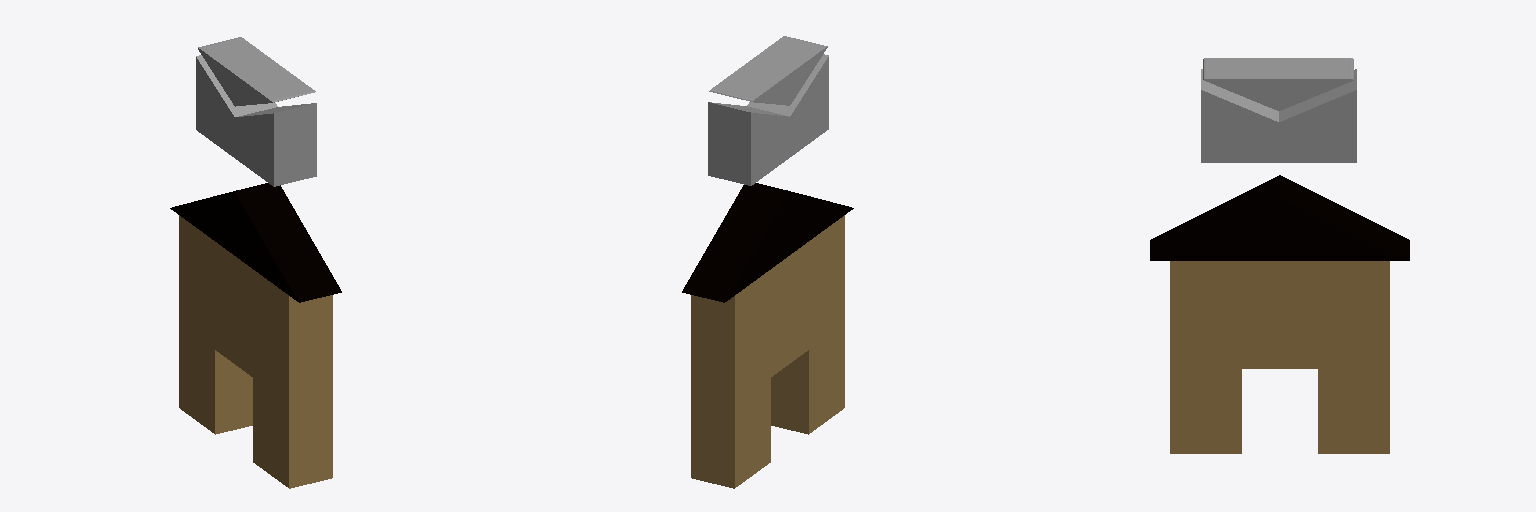
The model's file is icon_post_office.obj.
3 renders of one model, left to right at view 1: azimuth 30°, elevation 25°; view 2: azimuth 150°, elevation 25°; view 3: azimuth 270°, elevation 25°, orthographic.
Visible parts, largest first — view 1: Cube.003_Cube.006; view 2: Cube.003_Cube.006; view 3: Cube.003_Cube.006.
Boxes of the visible parts, x1=… form: Cube.003_Cube.006: x1=170, y1=37, x2=341, y2=488; Cube.003_Cube.006: x1=682, y1=36, x2=853, y2=488; Cube.003_Cube.006: x1=1150, y1=58, x2=1409, y2=453.
Bounding box in the file's own units: 0.617 × 5.09 × 3.2.